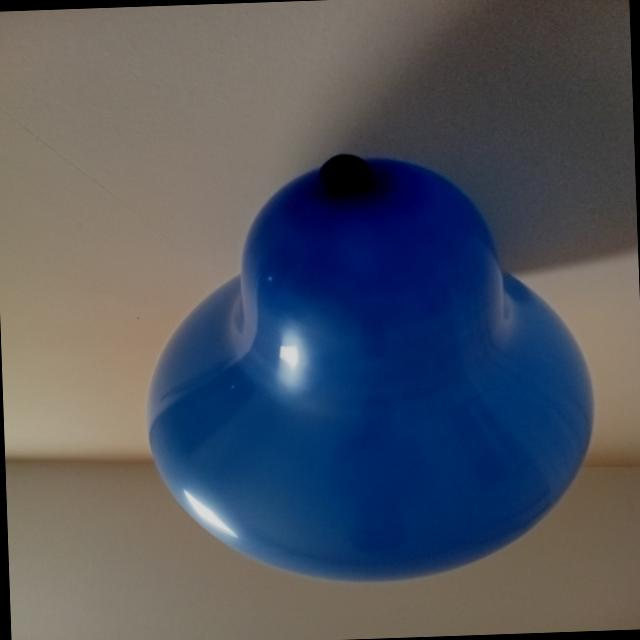balloon: (148, 155, 592, 579)
